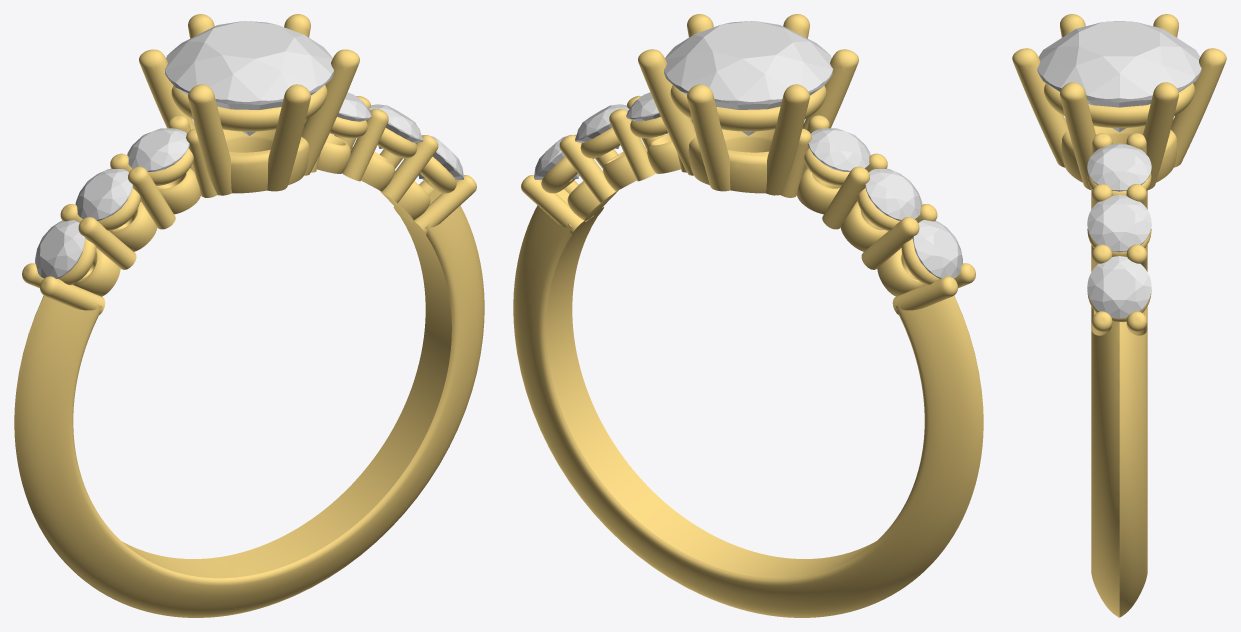
Rendered from diamond-round-yellowgold-6prong-knifeedge-3stone.glb.
3 views of the same model, side by side, from view 1: azimuth 30°, elevation 25°; view 2: azimuth 150°, elevation 25°; view 3: azimuth 270°, elevation 25° (orthographic). The views are drawn at different scales.
Parts seen in each view (by area): view 1: metal, stone, side.002, side.001, side, side.004, side.003, side.005; view 2: metal, stone, side.002, side.001, side, side.004, side.003, side.005; view 3: metal, stone, side.005, side.004, side.003.
Part boxes in pixels (left/top/right/bottom): metal: left=14, top=14, right=484, bottom=617; stone: left=164, top=21, right=333, bottom=135; side.002: left=35, top=220, right=85, bottom=278; side.001: left=75, top=168, right=132, bottom=220; side: left=127, top=128, right=189, bottom=171; side.004: left=368, top=104, right=422, bottom=148; side.003: left=337, top=92, right=371, bottom=121; side.005: left=418, top=135, right=463, bottom=179; metal: left=513, top=14, right=983, bottom=617; stone: left=664, top=21, right=833, bottom=135; side.002: left=912, top=220, right=962, bottom=278; side.001: left=865, top=168, right=922, bottom=220; side: left=808, top=128, right=870, bottom=171; side.004: left=575, top=104, right=629, bottom=148; side.003: left=626, top=92, right=660, bottom=121; side.005: left=534, top=134, right=579, bottom=179; metal: left=1012, top=14, right=1226, bottom=617; stone: left=1037, top=21, right=1201, bottom=131; side.005: left=1087, top=256, right=1151, bottom=318; side.004: left=1087, top=195, right=1151, bottom=252; side.003: left=1087, top=143, right=1151, bottom=191.
Bounding box in the file's own units: 20.5 × 23.81 × 8.35.
